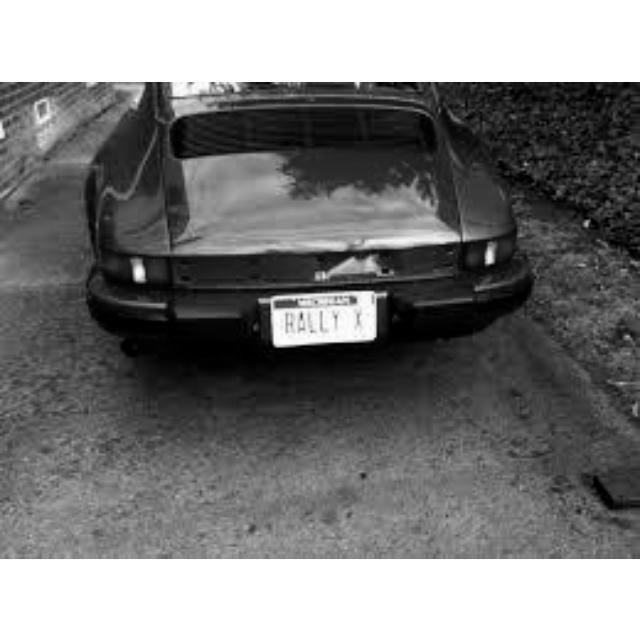boot-dent: (185, 202, 468, 288)
